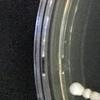white: (67, 81, 85, 97), (82, 86, 92, 100), (90, 88, 100, 100)
